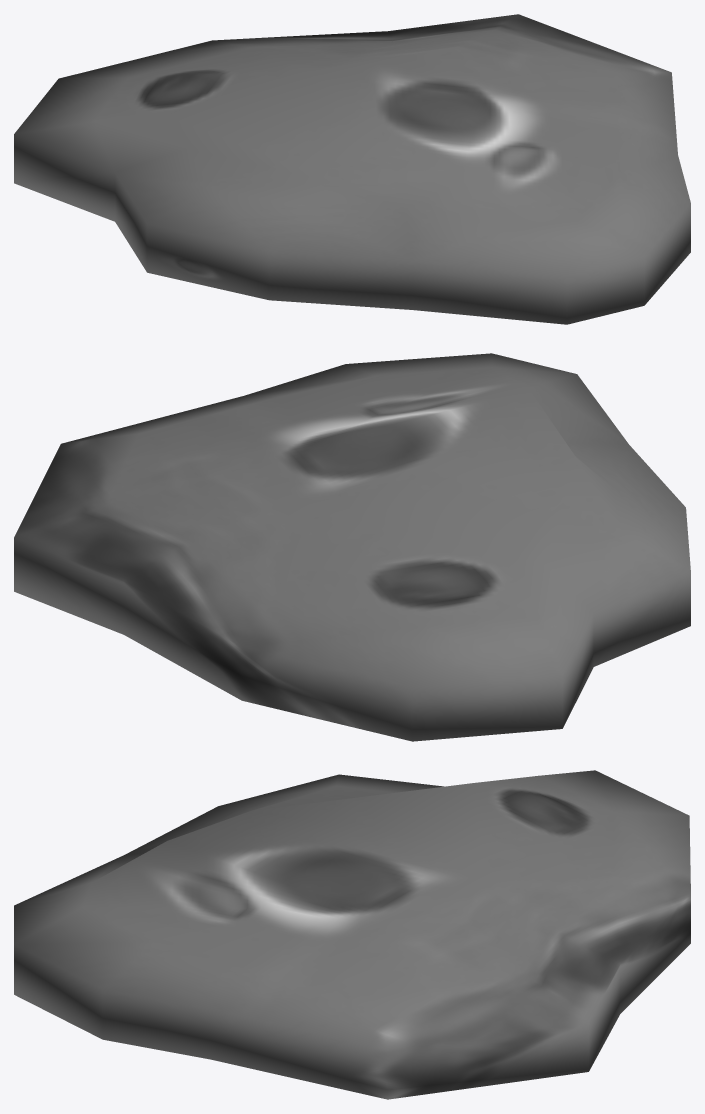
File: stone-2.glb
3 renders of one model, top to bottom at view 1: azimuth 30°, elevation 25°; view 2: azimuth 150°, elevation 25°; view 3: azimuth 270°, elevation 25°, orthographic. The views are drawn at different scales.
Parts seen in each view (by area): view 1: SM_PROP_stone_02; view 2: SM_PROP_stone_02; view 3: SM_PROP_stone_02.
Part boxes in pixels (x1=…): SM_PROP_stone_02: x1=14, y1=14, x2=690, y2=324; SM_PROP_stone_02: x1=14, y1=353, x2=690, y2=741; SM_PROP_stone_02: x1=14, y1=770, x2=690, y2=1099.
Size of the model in its own units: 1.09 by 0.1805 by 1.12.
Materials: 1 (1 with a texture image).
